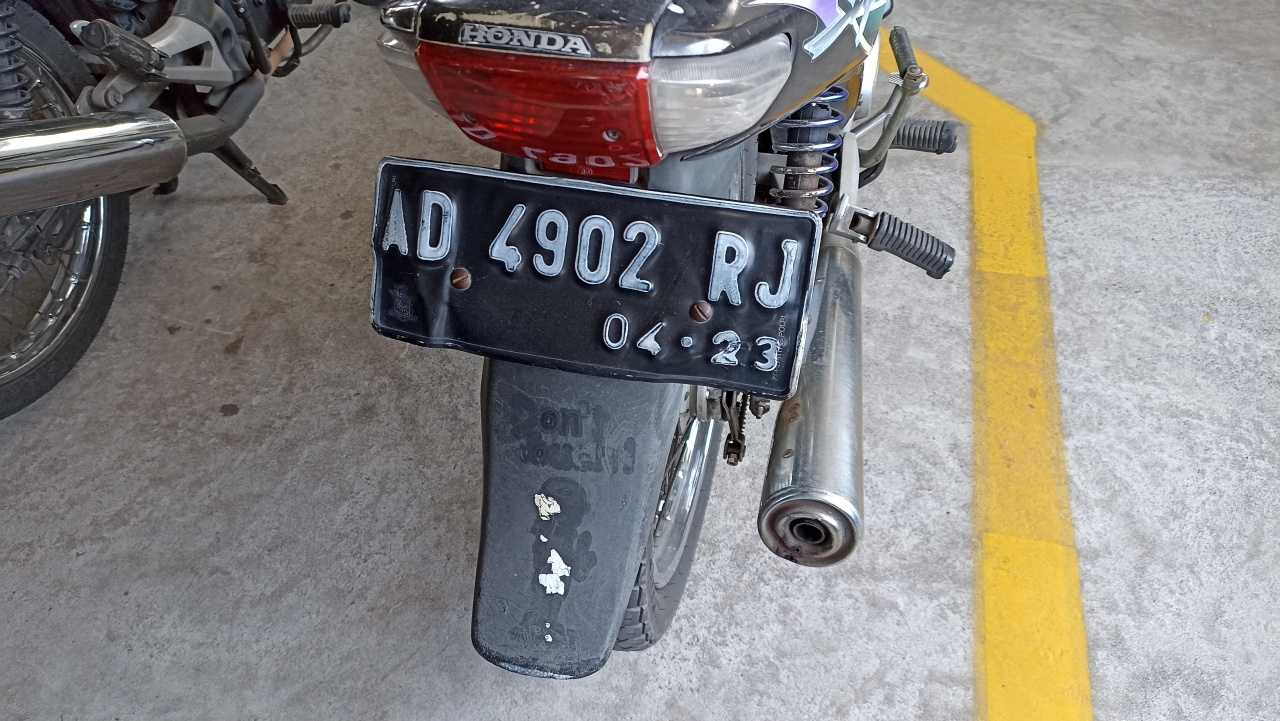plate: (369, 158, 817, 395)
